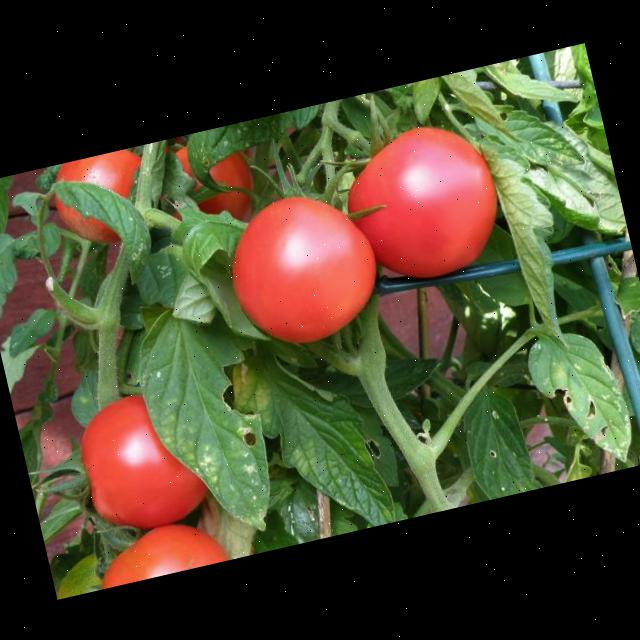tomato: (318, 105, 519, 294), (58, 370, 255, 542), (213, 178, 397, 362), (38, 146, 163, 270), (157, 128, 280, 252), (68, 512, 236, 592)
